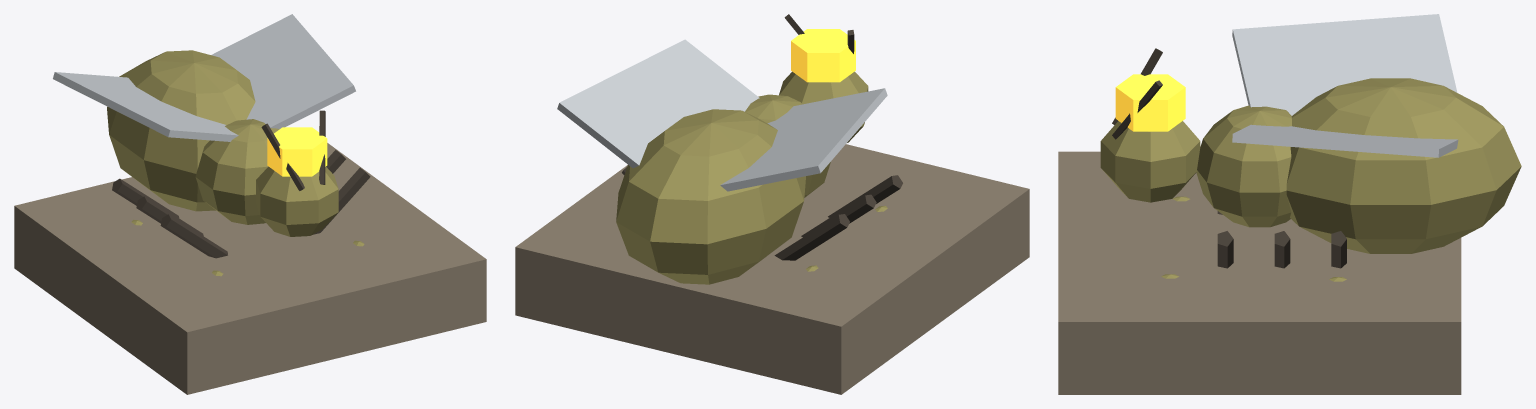
The model's file is bug_locusts.glb.
3 views of the same model, side by side, from view 1: azimuth 30°, elevation 25°; view 2: azimuth 150°, elevation 25°; view 3: azimuth 270°, elevation 25° (orthographic). The views are drawn at different scales.
Visible parts, largest first — view 1: bug_locustsMesh, TurretMesh, HeadMesh, Crown; view 2: bug_locustsMesh, TurretMesh, Crown, HeadMesh; view 3: bug_locustsMesh, TurretMesh, HeadMesh, Crown.
Boxes of the visible parts, bbox=[...] form: bug_locustsMesh: bbox=[14, 143, 486, 394]; TurretMesh: bbox=[53, 14, 370, 258]; HeadMesh: bbox=[256, 110, 338, 236]; Crown: bbox=[267, 127, 327, 176]; bug_locustsMesh: bbox=[515, 144, 1029, 394]; TurretMesh: bbox=[557, 39, 902, 284]; Crown: bbox=[791, 29, 855, 82]; HeadMesh: bbox=[779, 14, 868, 142]; bug_locustsMesh: bbox=[1058, 151, 1461, 394]; TurretMesh: bbox=[1196, 14, 1521, 268]; HeadMesh: bbox=[1100, 48, 1200, 202]; Crown: bbox=[1115, 74, 1185, 131].
Size of the model in its own units: 1.8 by 1.21 by 2.07.
